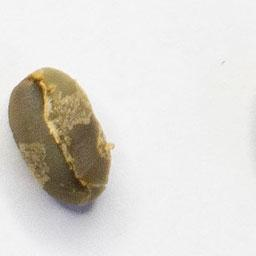peaberry: (5, 63, 117, 213)
